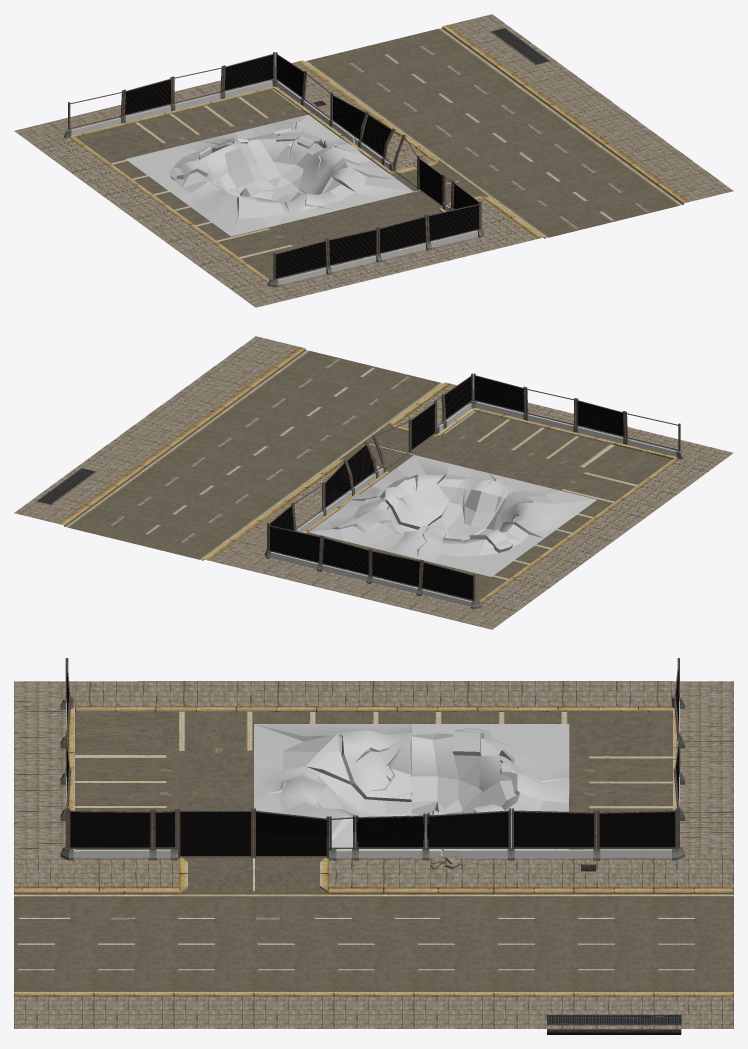
File: Damaged_Road_Part_03.fbx
3 views of the same model, one above another, from view 1: azimuth 30°, elevation 25°; view 2: azimuth 150°, elevation 25°; view 3: azimuth 270°, elevation 25° (orthographic). The views are drawn at different scales.
Parts seen in each view (by area): view 1: Damaged_Road_Part_03; view 2: Damaged_Road_Part_03; view 3: Damaged_Road_Part_03.
Part boxes in pixels (box(x1,y1,x2,y2)): Damaged_Road_Part_03: box(14, 14, 733, 307); Damaged_Road_Part_03: box(14, 336, 733, 629); Damaged_Road_Part_03: box(14, 658, 733, 1034).
Size of the model in its own units: 4801 by 605 by 4200.
